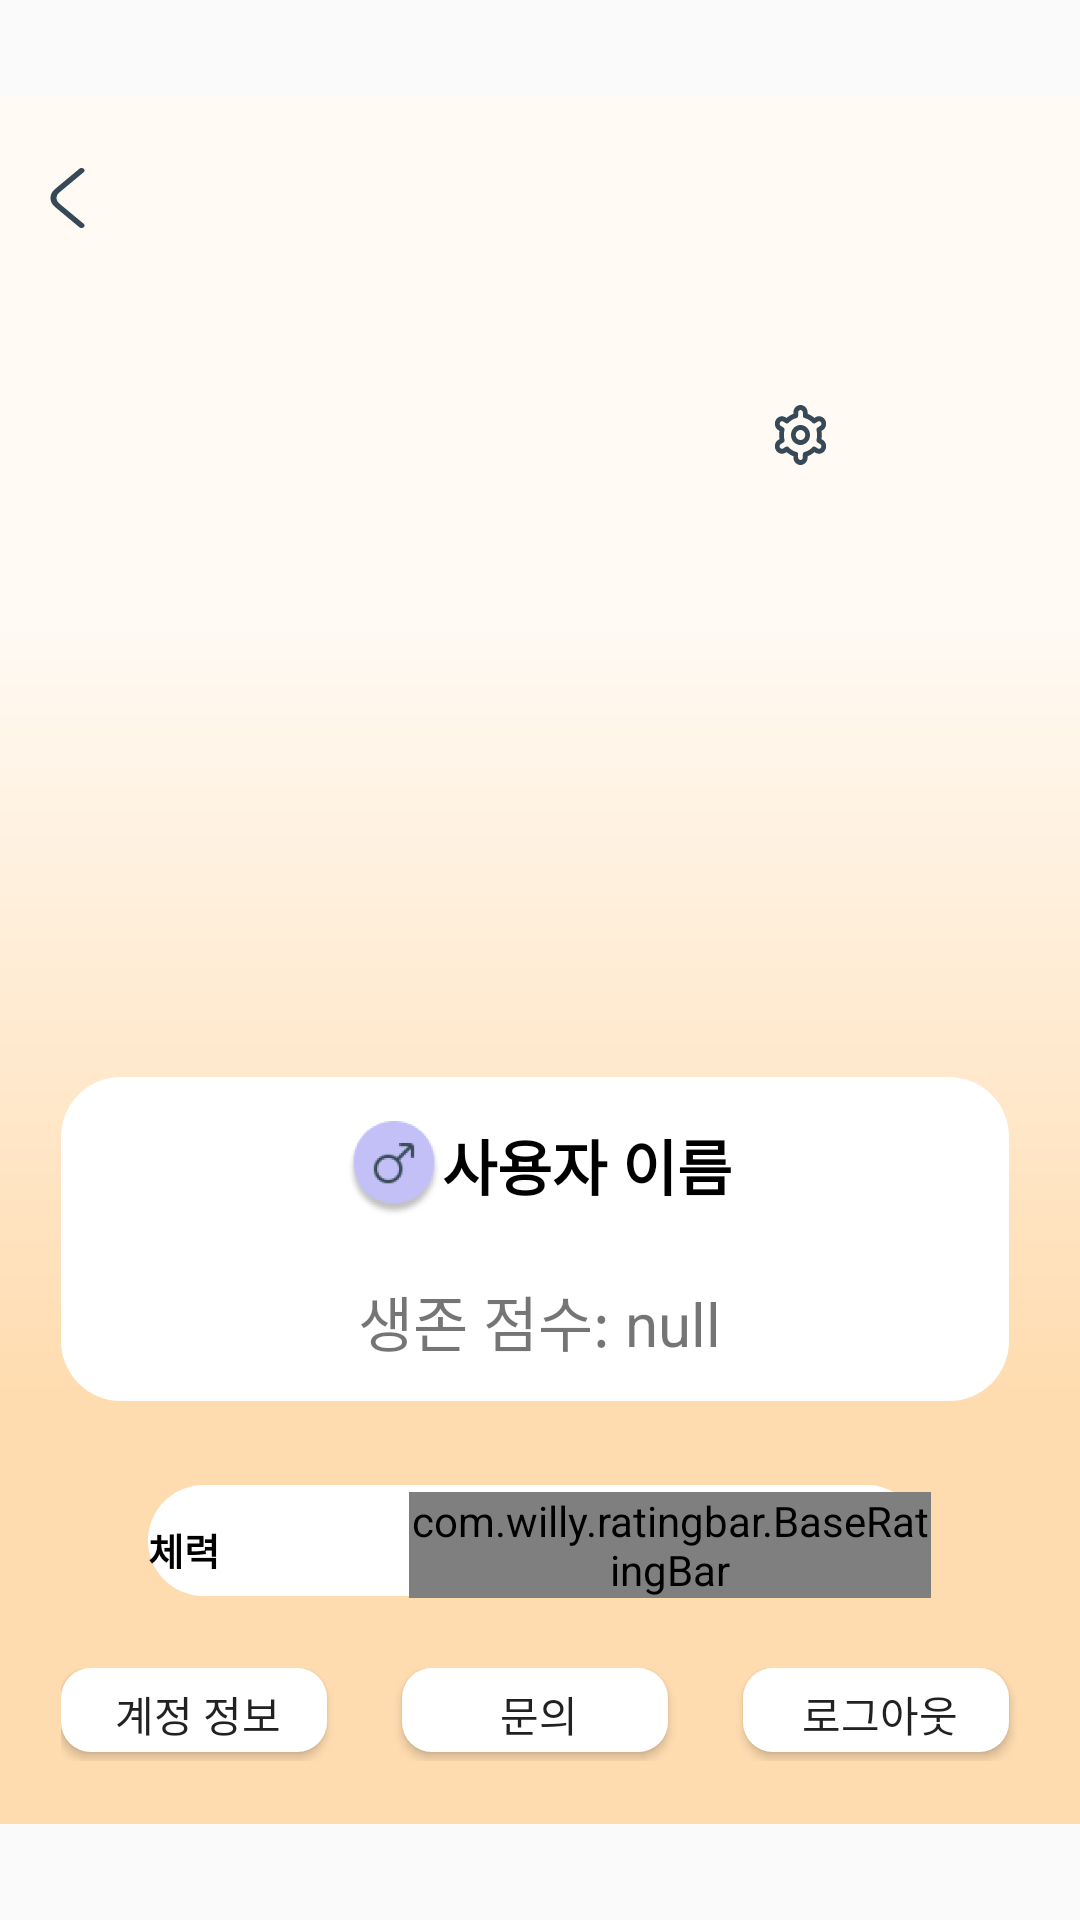

Point at icon controls on the screen. Image size 1080 × 1920, points as (x,y).
back: (67,198)
setting: (800,435)
